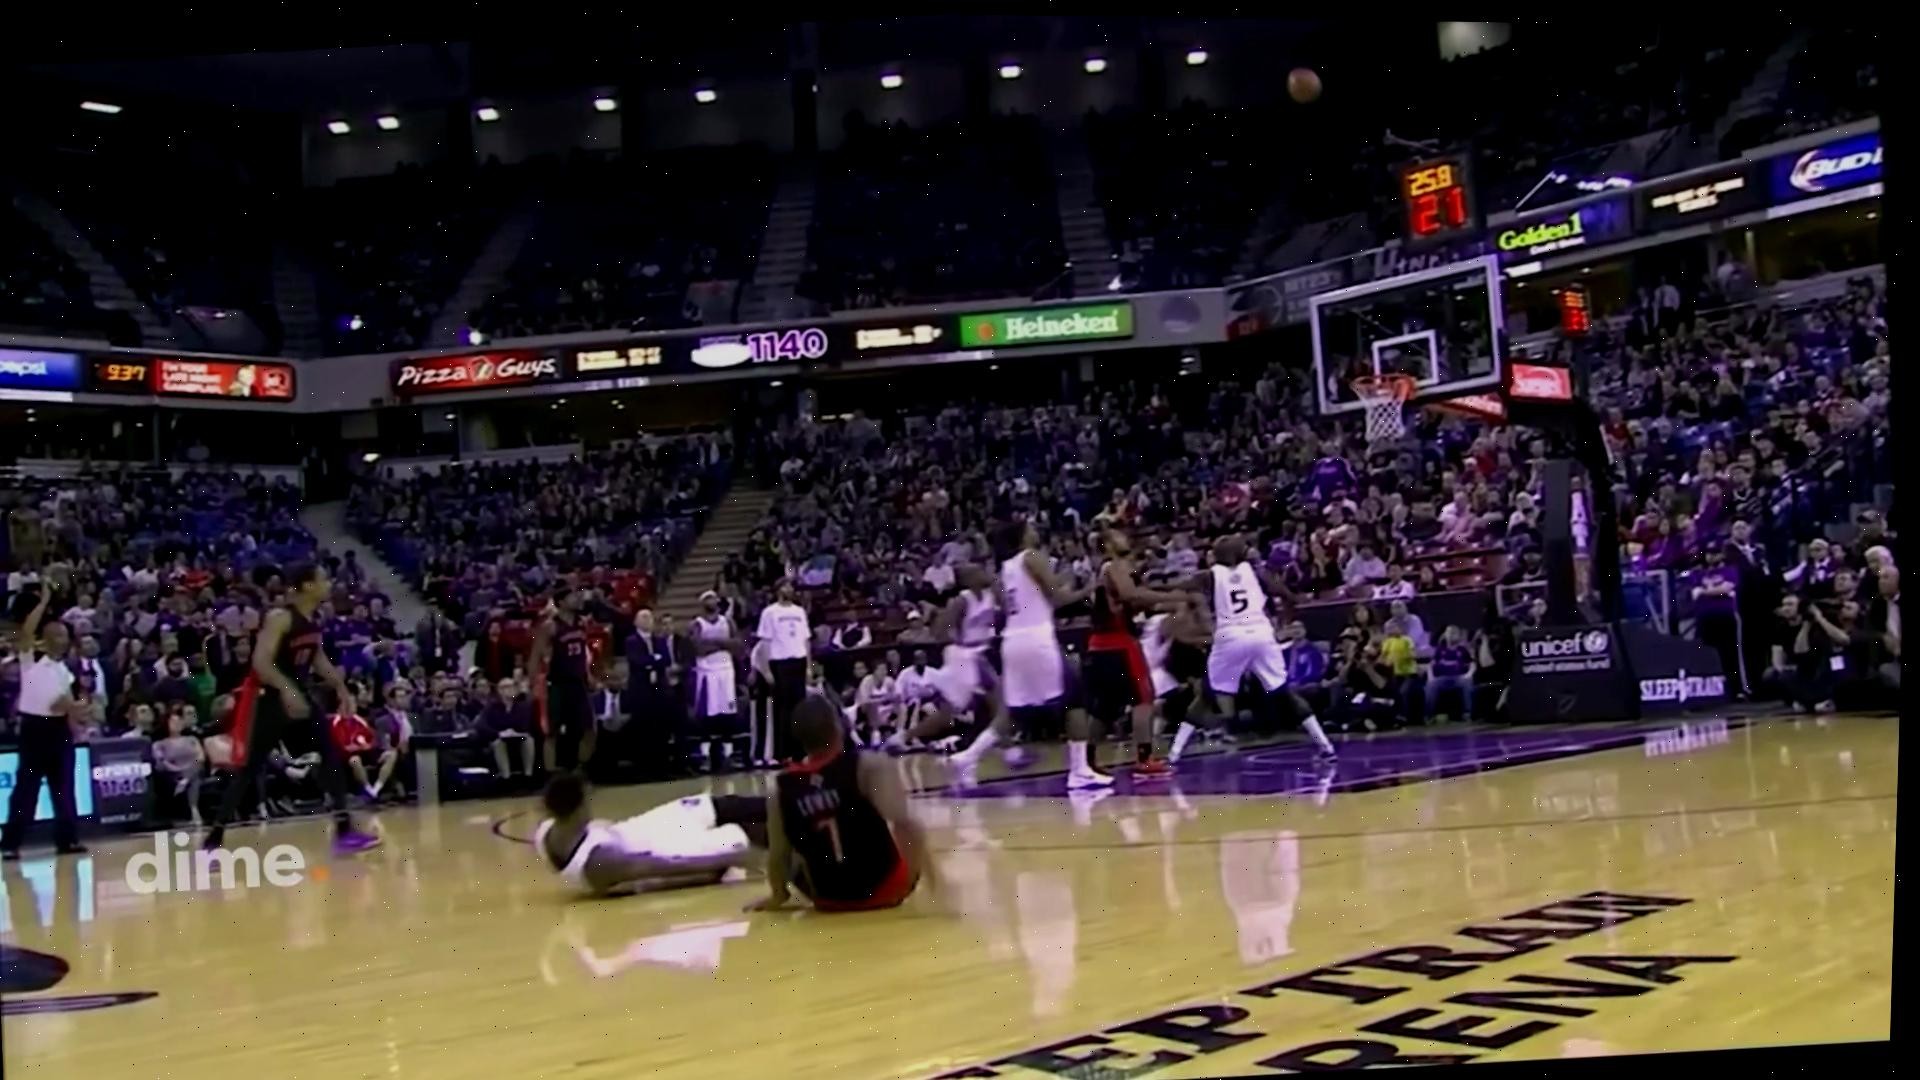no_foul: (512, 676, 977, 938)
